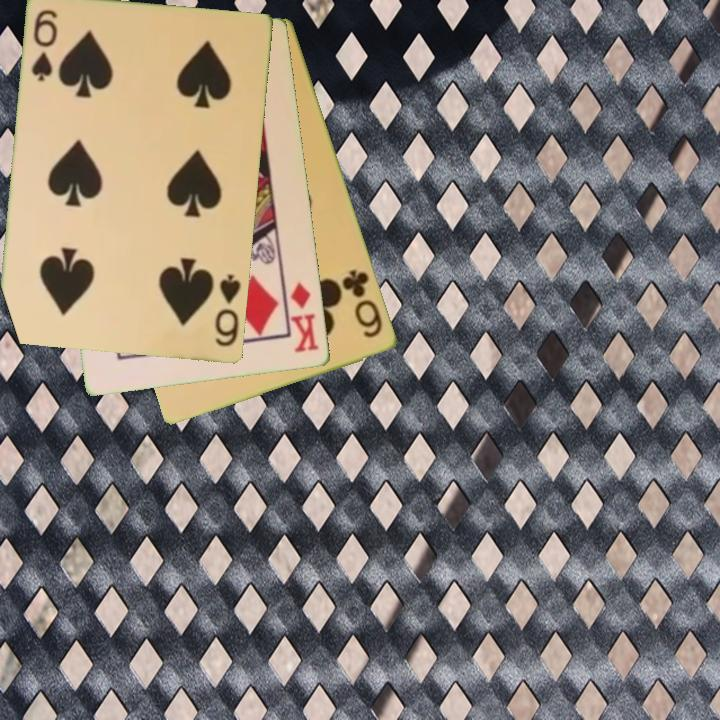6c: (339, 266, 386, 341)
6s: (28, 7, 61, 85), (212, 271, 244, 350)
Kd: (288, 278, 322, 356)
